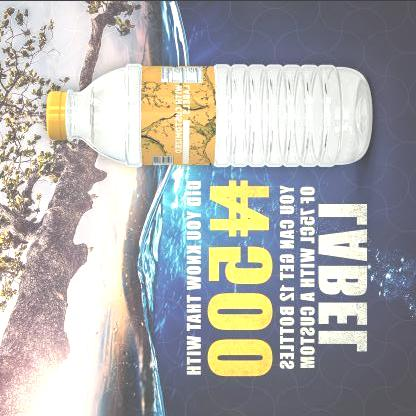bottle: (43, 57, 375, 173)
